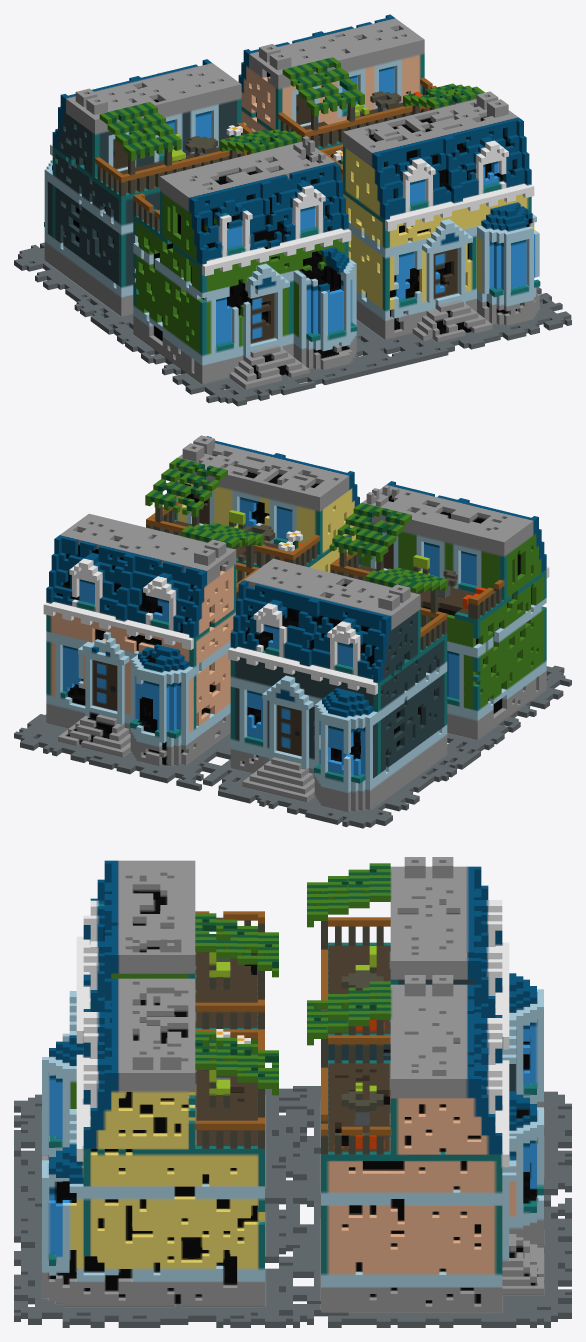
File: building_small_6_damaged.glb
The picture shows the model from 3 angles, top to bottom: view 1: azimuth 30°, elevation 25°; view 2: azimuth 150°, elevation 25°; view 3: azimuth 270°, elevation 25°; orthographic projection. The views are drawn at different scales.
Visible parts, largest first — view 1: building_small_6_damaged; view 2: building_small_6_damaged; view 3: building_small_6_damaged.
Boxes of the visible parts, left/top/right/bottom form: building_small_6_damaged: left=14, top=14, right=571, bottom=406; building_small_6_damaged: left=14, top=435, right=571, bottom=828; building_small_6_damaged: left=14, top=857, right=571, bottom=1327.
Size of the model in its own units: 8 by 4 by 8.
Materials: 1 (1 with a texture image).
